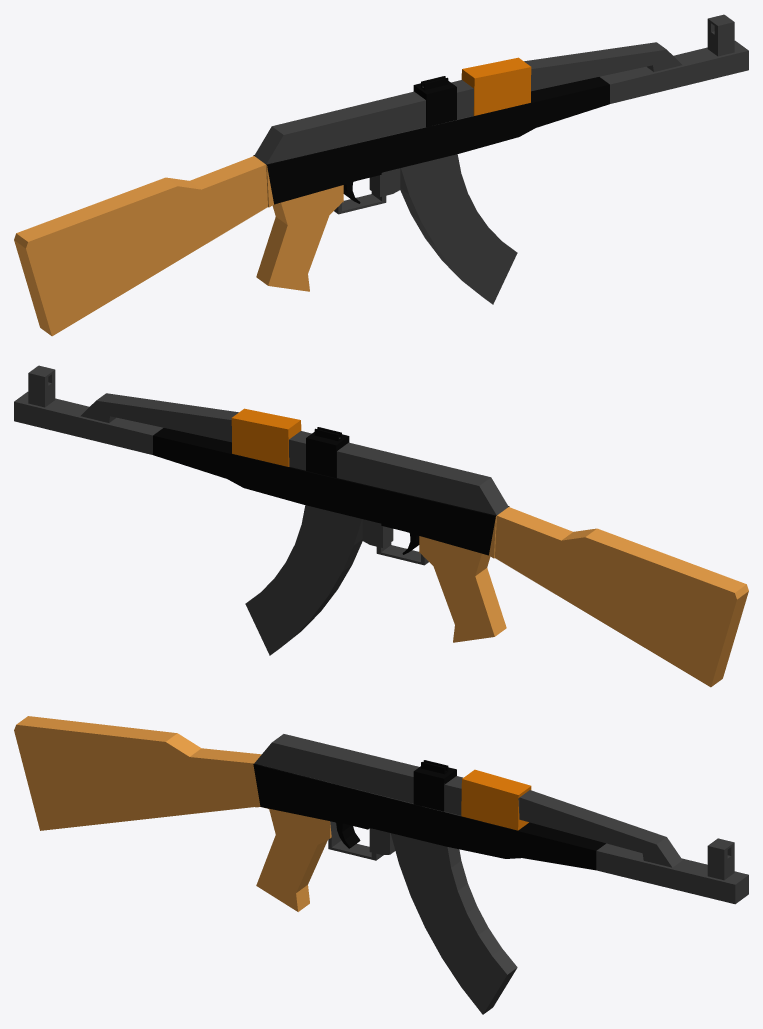
File: AKM.fbx
The picture shows the model from 3 angles, top to bottom: view 1: azimuth 30°, elevation 25°; view 2: azimuth 150°, elevation 25°; view 3: azimuth 330°, elevation 25°; orthographic projection.
Visible parts, largest first — view 1: AKM; view 2: AKM; view 3: AKM.
Boxes of the visible parts, left/top/right/bottom form: AKM: left=14, top=14, right=748, bottom=336; AKM: left=14, top=365, right=748, bottom=687; AKM: left=14, top=716, right=748, bottom=1014.
Bounding box in the file's own units: 24419 × 7566 × 800.
